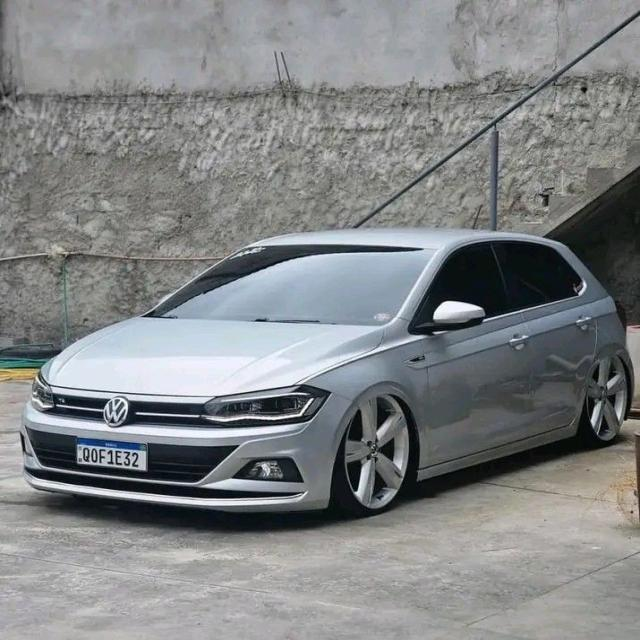Placas: (74, 437, 148, 475)
